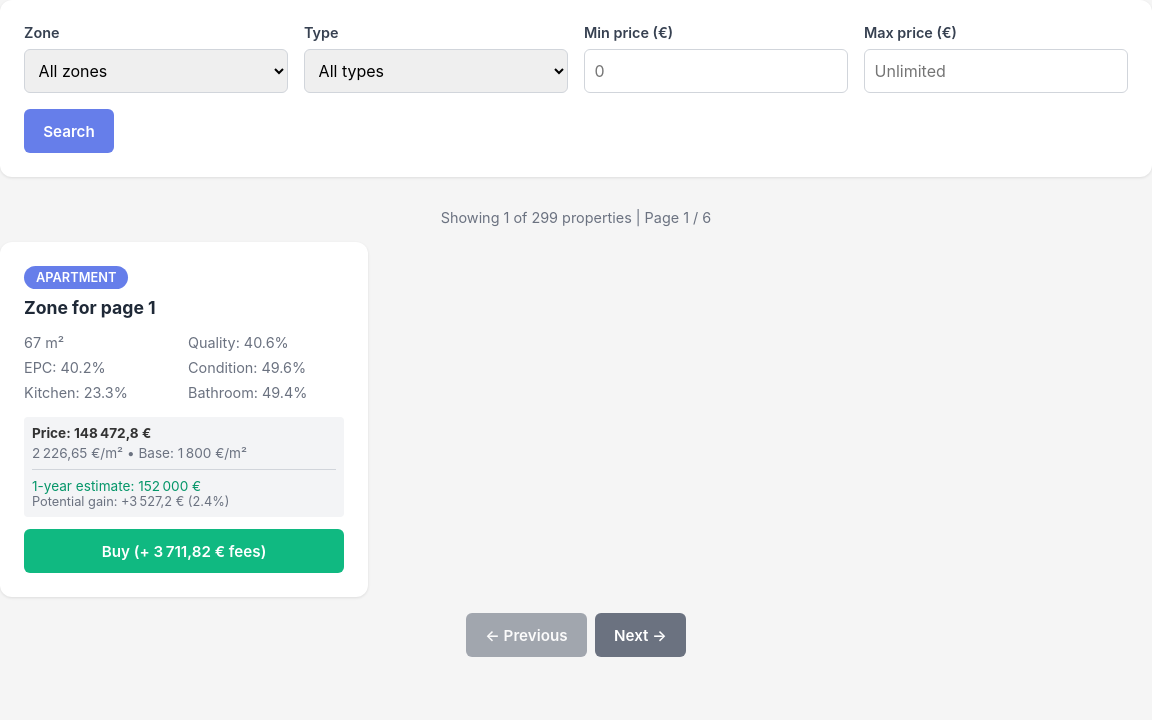
Scenario: paging through the market › never displays a page it did not request
This screenshot has width=1152, height=720.
Expected: the text "Zone for page 1" is shown, top-left (24, 297), bottom-right (156, 318)
Click the button "Next →". click: (640, 635)
box: top-left (595, 613), bottom-right (686, 657)
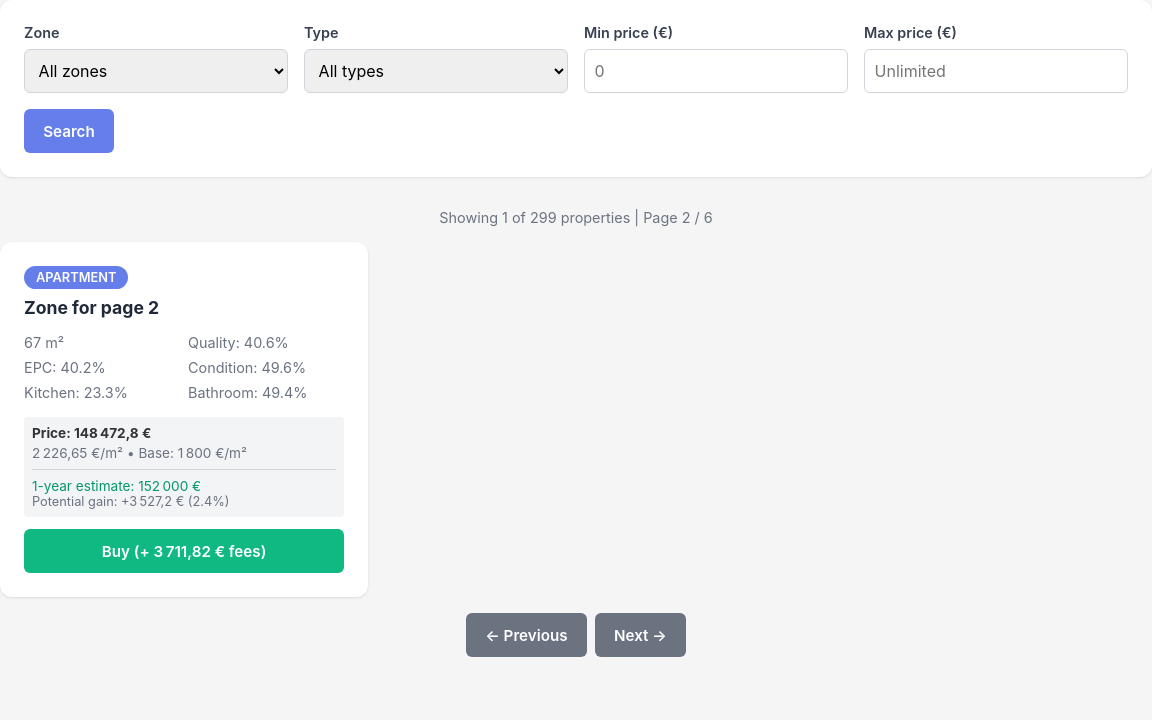
Expected: the text "Zone for page 2" is shown, top-left (24, 297), bottom-right (159, 318)
Click the button "Next →". click: (640, 635)
box: top-left (595, 613), bottom-right (686, 657)
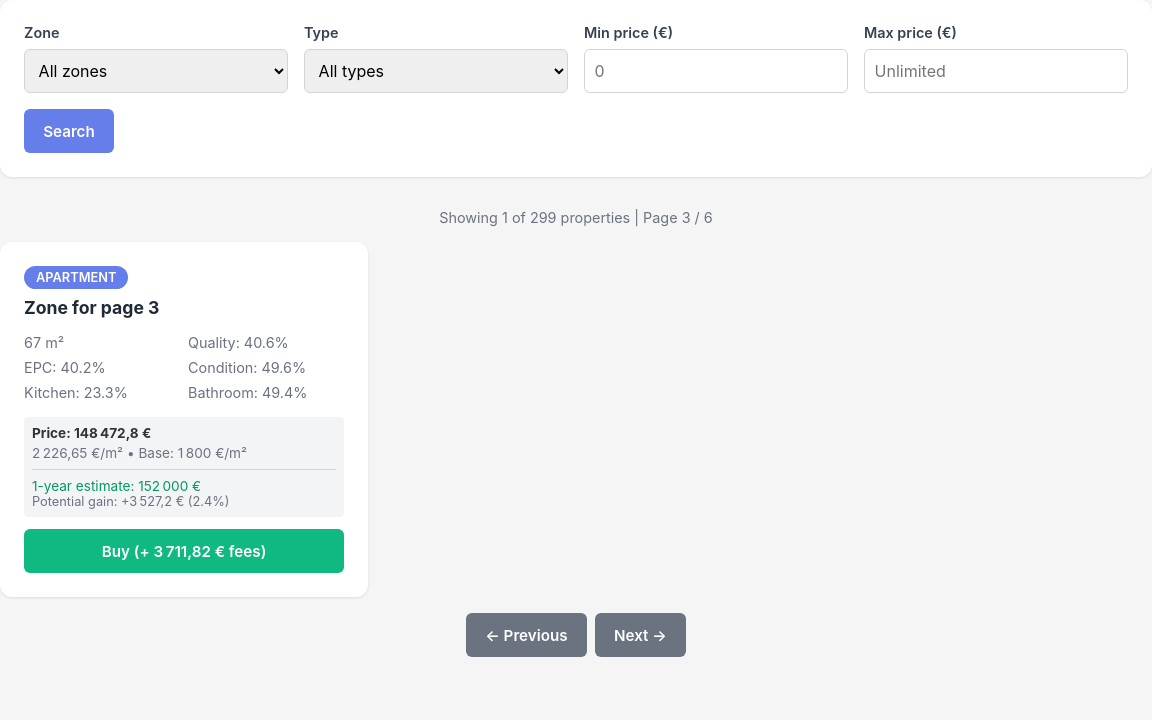
Expected: the text "Zone for page 3" is shown, top-left (24, 297), bottom-right (159, 318)
